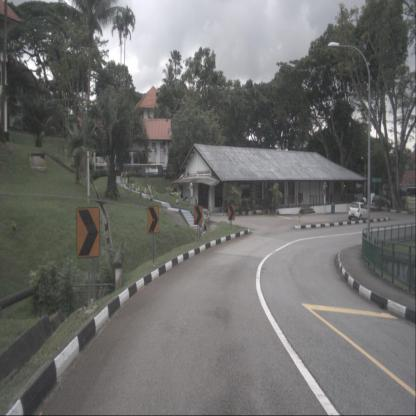vehicle-bicycle: (206, 204, 211, 223)
vehicle-car: (349, 202, 370, 220), (372, 195, 391, 209)
